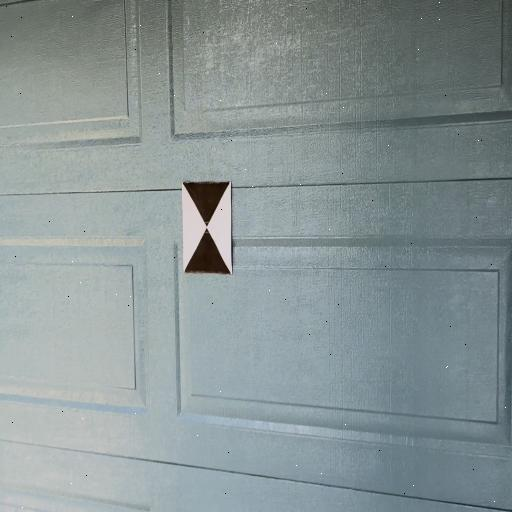target: (182, 182, 234, 274)
